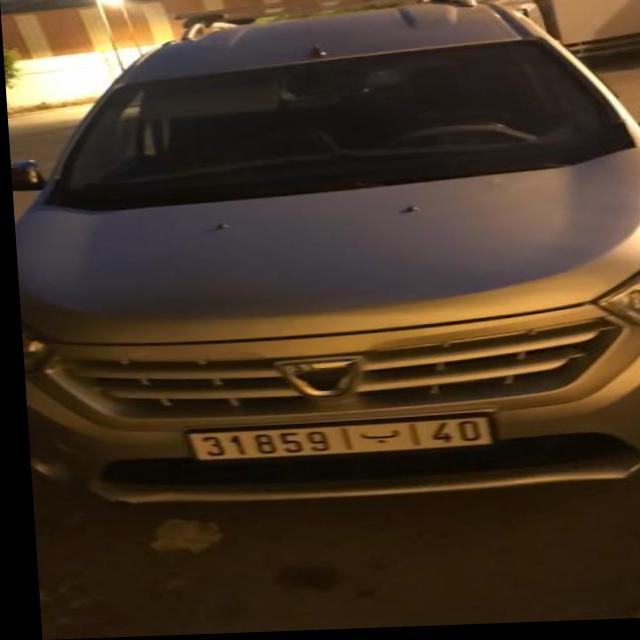License-Plate: (183, 422, 483, 461)
